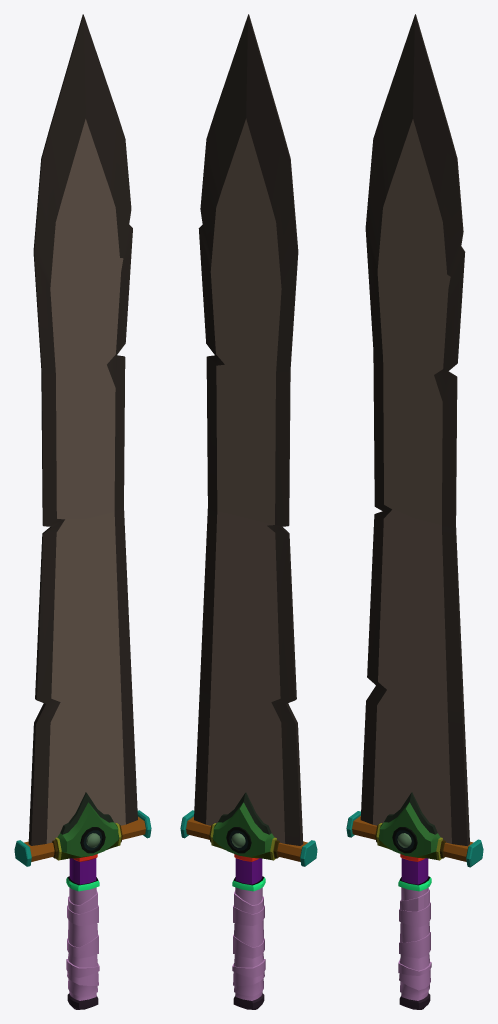
File: epee 2.fbx
3 renders of one model, left to right at view 1: azimuth 30°, elevation 25°; view 2: azimuth 150°, elevation 25°; view 3: azimuth 330°, elevation 25°, orthographic.
Visible parts, largest first — view 1: polySurface2; view 2: polySurface2; view 3: polySurface2.
Part boxes in pixels (bbox=[...]): polySurface2: bbox=[14, 14, 151, 1009]; polySurface2: bbox=[180, 14, 317, 1009]; polySurface2: bbox=[346, 14, 483, 1009].
Size of the model in its own units: 21.25 by 162 by 7.41.
